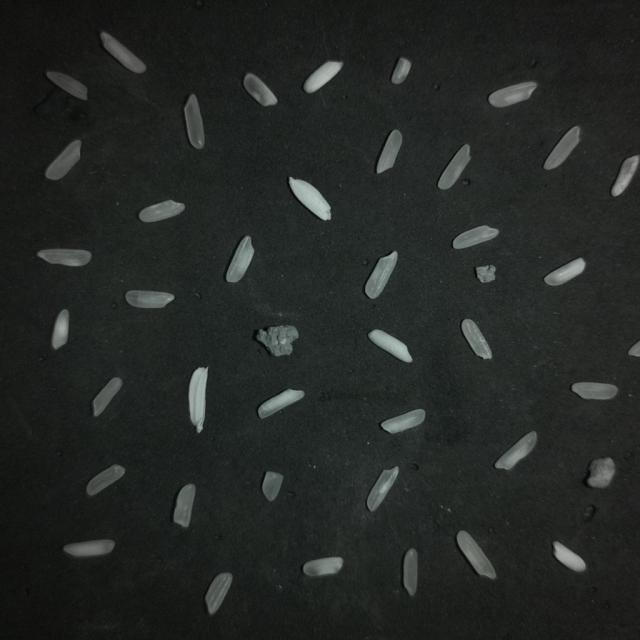broken: (553, 542, 586, 572), (262, 472, 283, 501)
chalky: (100, 32, 146, 73), (495, 431, 536, 469), (368, 330, 413, 363), (45, 140, 81, 180), (258, 389, 304, 418), (226, 236, 254, 283), (304, 61, 343, 93), (462, 319, 492, 359), (489, 82, 536, 107), (544, 258, 585, 286), (611, 155, 639, 196), (381, 409, 425, 433), (139, 200, 184, 222), (125, 290, 174, 308), (63, 540, 114, 557), (303, 557, 343, 576), (52, 310, 69, 349), (392, 57, 411, 84)
foreign: (289, 177, 331, 220), (256, 326, 298, 356), (189, 367, 208, 433), (587, 457, 615, 488), (475, 265, 496, 283)
whole: (457, 531, 496, 579), (365, 251, 397, 299), (544, 127, 579, 169), (438, 144, 470, 189), (367, 467, 398, 511), (86, 465, 124, 496), (46, 72, 88, 100), (93, 377, 122, 416), (452, 225, 499, 249), (205, 573, 232, 614), (184, 95, 204, 149), (377, 130, 402, 173), (244, 74, 277, 106), (174, 484, 195, 528), (37, 249, 91, 266), (572, 382, 618, 399), (404, 549, 418, 596)
